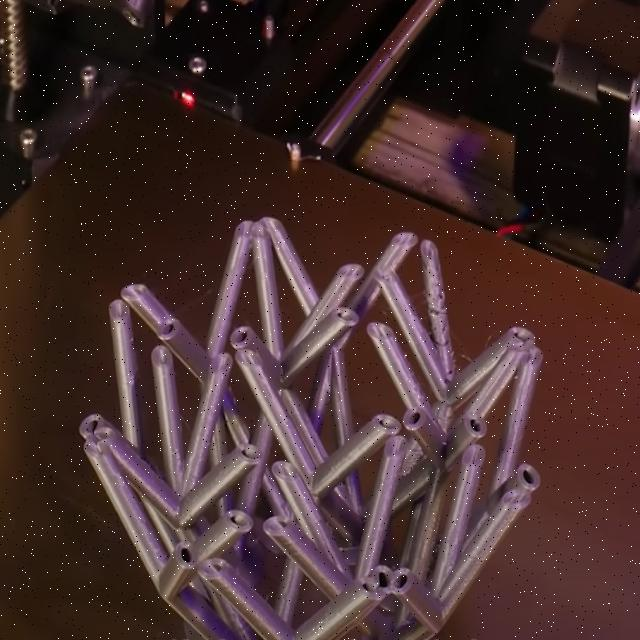stringing: (400, 281, 434, 337)
